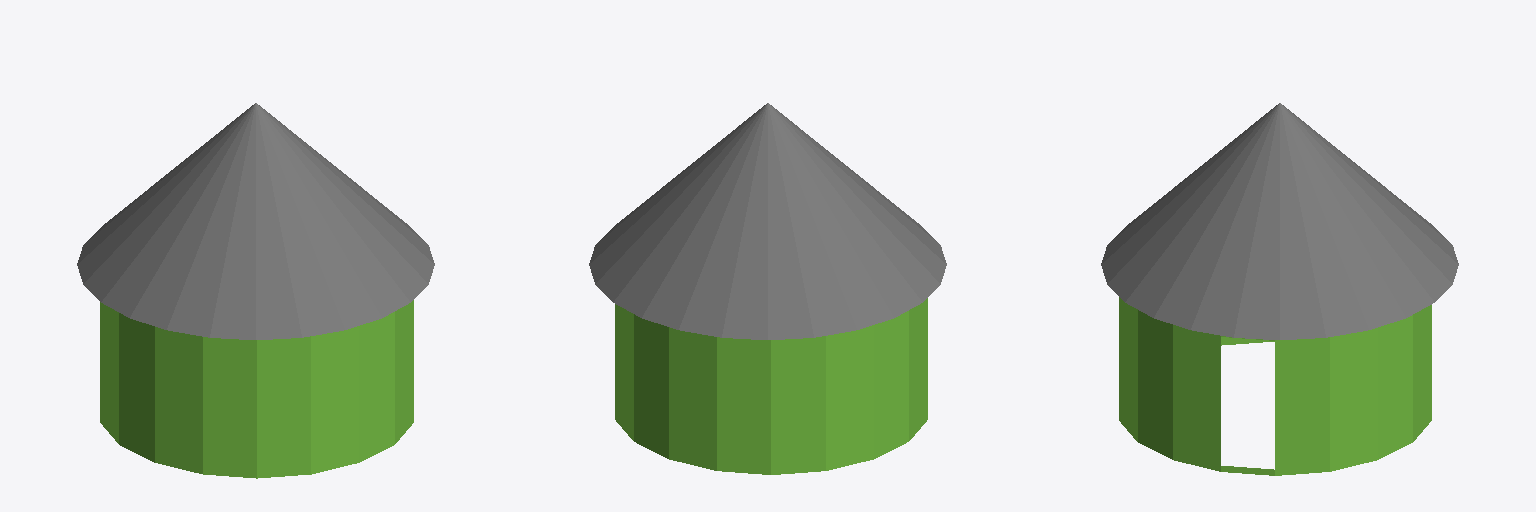
Rendered from hut.obj.
The picture shows the model from 3 angles: view 1: azimuth 30°, elevation 25°; view 2: azimuth 150°, elevation 25°; view 3: azimuth 270°, elevation 25°; orthographic projection.
Parts seen in each view (by area): view 1: Cone001, Cylinder001; view 2: Cone001, Cylinder001; view 3: Cone001, Cylinder001.
Part boxes in pixels (x1,y1,x2,y2): Cone001: (77,103,434,339); Cylinder001: (100,300,413,478); Cone001: (589,103,946,339); Cylinder001: (615,298,927,474); Cone001: (1101,103,1458,339); Cylinder001: (1119,297,1431,475).
Bounding box in the file's own units: 90 × 85.11 × 90.